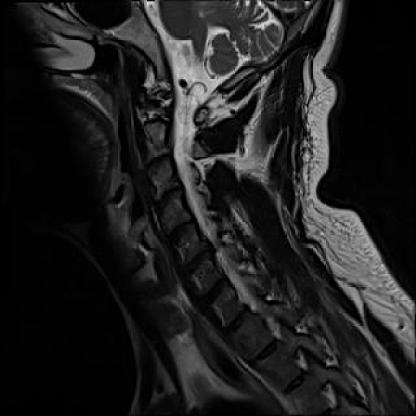Disc Bulgerotation: (163, 221, 201, 242), (175, 252, 217, 270)
Disc Protrusionrotation: (153, 189, 185, 209)
